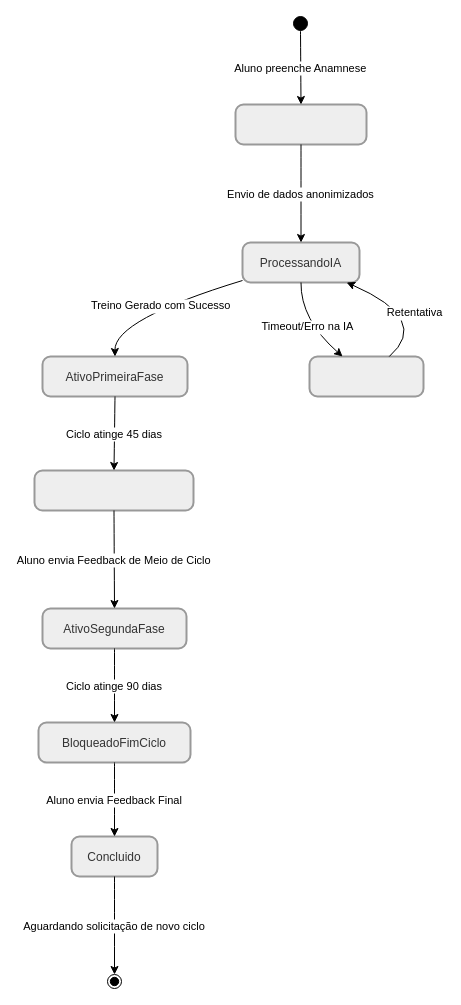
The diagram is 461 pixels wide and 1005 high, and some of its shapes have lost their labels. Each missing label, with the centre of its shape:
BloqueadoMeioCiclo: pixel 113 490
ColetandoDados: pixel 300 124
FalhaGeracao: pixel 366 376
